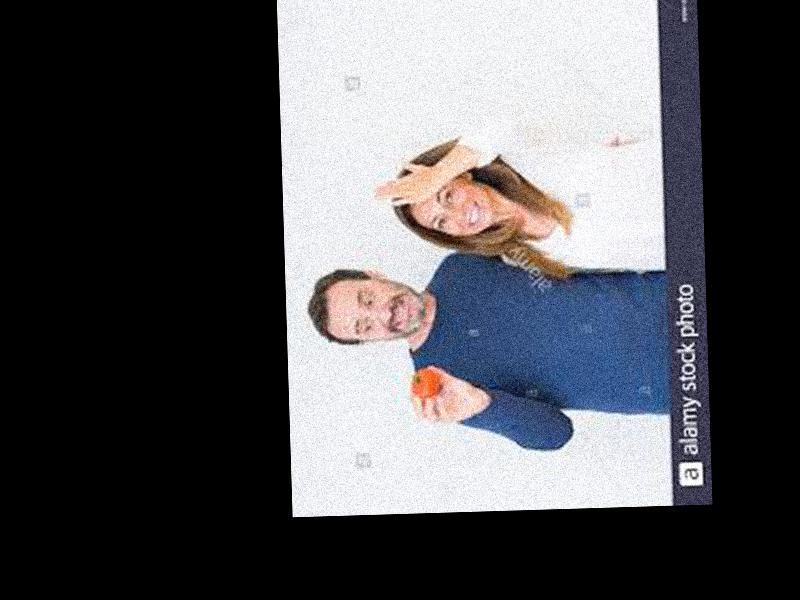Tomato: (408, 369, 439, 397)
